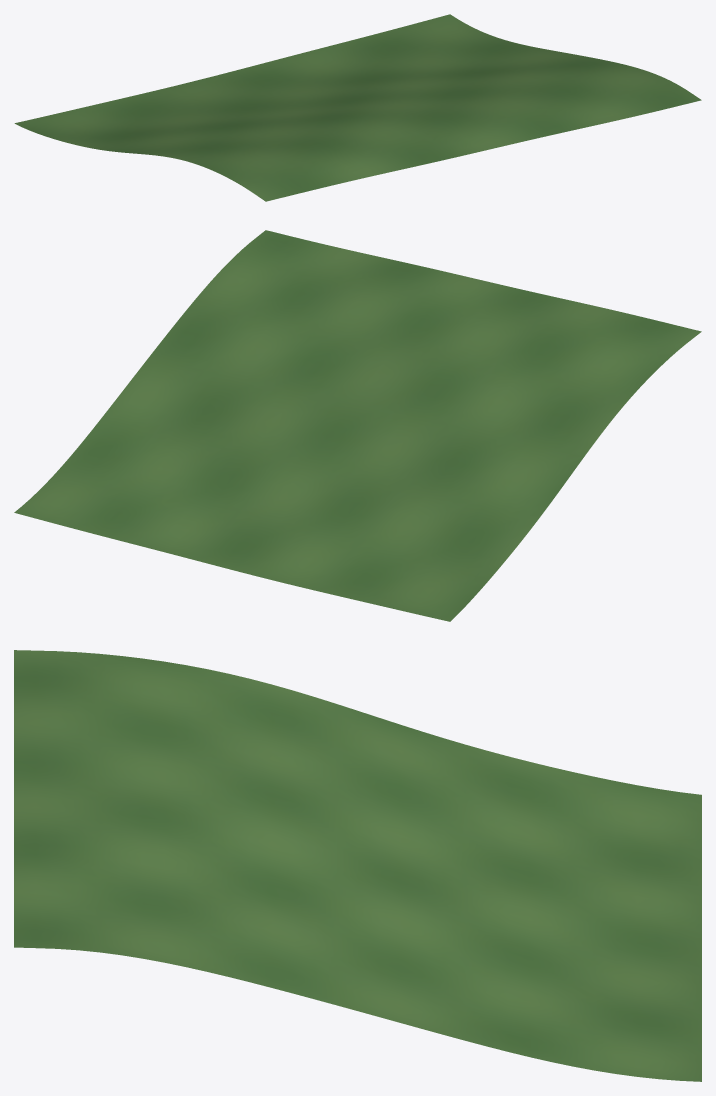
File: chunk_8_12.glb
The picture shows the model from 3 angles, top to bottom: view 1: azimuth 30°, elevation 25°; view 2: azimuth 150°, elevation 25°; view 3: azimuth 270°, elevation 25°; orthographic projection. The views are drawn at different scales.
Size of the model in its own units: 512 by 121 by 512.
